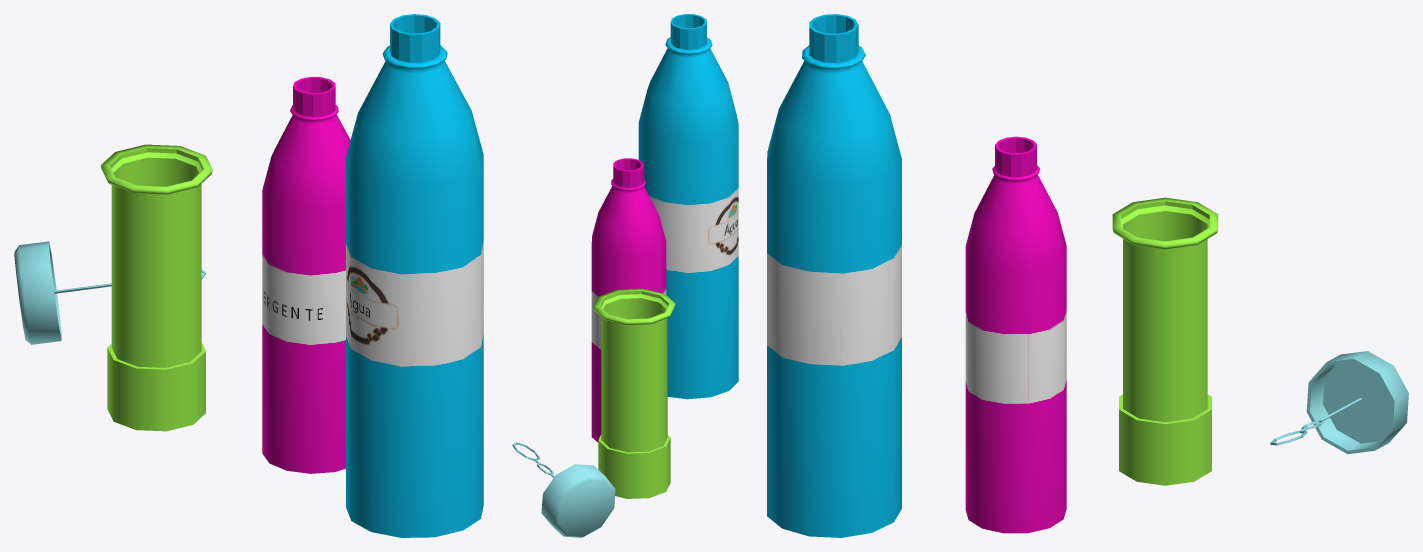
Rendered from agua.FBX.
3 views of the same model, side by side, from view 1: azimuth 30°, elevation 25°; view 2: azimuth 150°, elevation 25°; view 3: azimuth 270°, elevation 25° (orthographic). The views are drawn at different scales.
Visible parts, largest first — view 1: garrafa de água, detergente, pega bolhas, pegador; view 2: garrafa de água, pega bolhas, detergente, pegador; view 3: garrafa de água, detergente, pega bolhas, pegador.
Boxes of the visible parts, box(x1,y1,x2,y2) form: garrafa de água: box(346, 14, 483, 537); detergente: box(262, 77, 350, 473); pega bolhas: box(100, 144, 212, 431); pegador: box(14, 241, 206, 344); garrafa de água: box(638, 14, 738, 399); pega bolhas: box(593, 288, 675, 498); detergente: box(591, 158, 666, 442); pegador: box(512, 442, 615, 537); garrafa de água: box(767, 14, 901, 537); detergente: box(965, 136, 1066, 533); pega bolhas: box(1112, 197, 1218, 485); pegador: box(1270, 351, 1408, 454).
Bounding box in the file's own units: 28.52 × 76.96 × 65.07.
